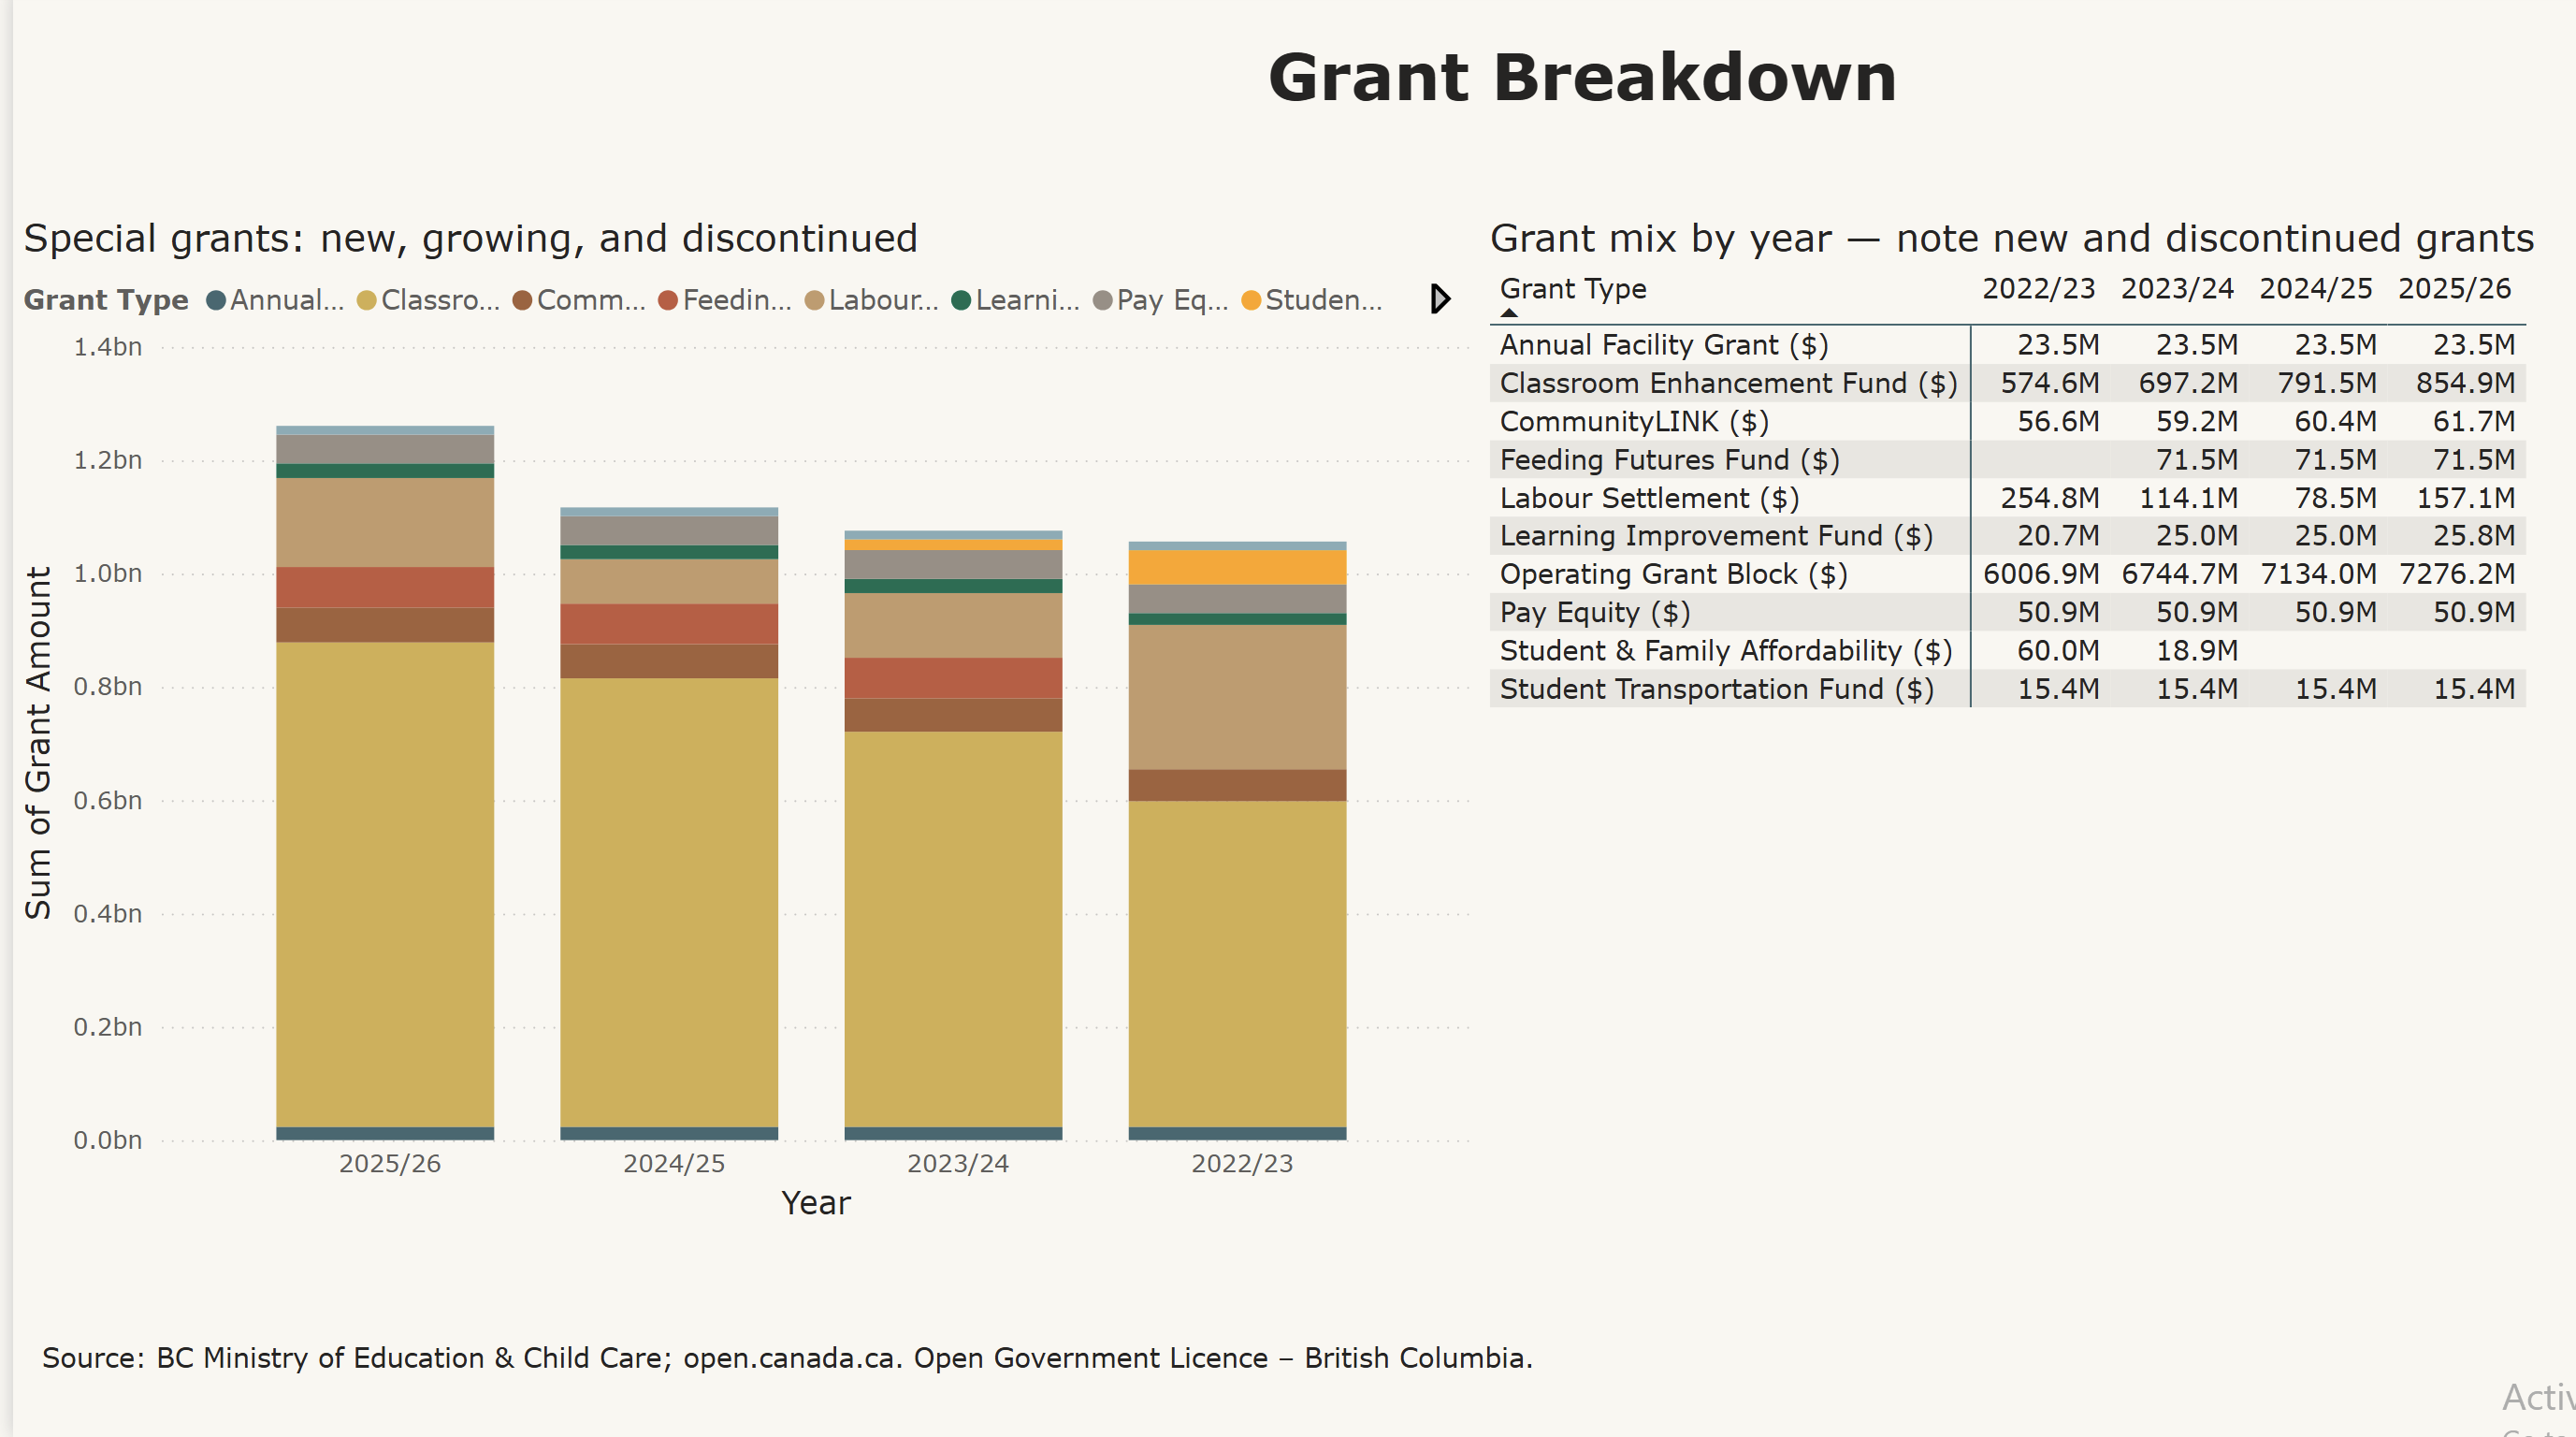

The page's visual inventory and layout, read from the dashboard file:
{"tool":"powerbi","page":{"name":"Grant Breakdown","canvas":[1280,720],"ordinal":2},"visuals":[{"type":"columnChart","title":"Special grants: new, growing, and discontinued","fields":{"Category":["funding_grants.Year"],"Y":["Sum(funding_grants.Grant Amount)"],"Series":["funding_grants.Grant Type"]},"box":[0,110.8,730.2,506.7],"z":0},{"type":"pivotTable","title":"Grant mix by year — note new and discontinued grants","fields":{"Columns":["funding_grants.Year"],"Rows":["funding_grants.Grant Type"],"Values":["Sum(funding_grants.Grant Amount)"]},"box":[730.2,110.8,550.5,285],"z":1},{"type":"textbox","box":[9.5,667.4,755.4,52.3],"z":2},{"type":"textbox","box":[619.4,17.5,367.3,51.4],"z":3}]}

Visuals, with their boxes in screenshot pixels (x1, y1, x2, y2), scaled from the page's 1280x720 canvas onto the 2576x1437 screenshot:
"Special grants: new, growing, and discontinued" columnChart: l=0, t=221, r=1469, b=1232
"Grant mix by year — note new and discontinued grants" pivotTable: l=1469, t=221, r=2575, b=790
textbox: l=19, t=1332, r=1540, b=1436
textbox: l=1247, t=35, r=1986, b=138
